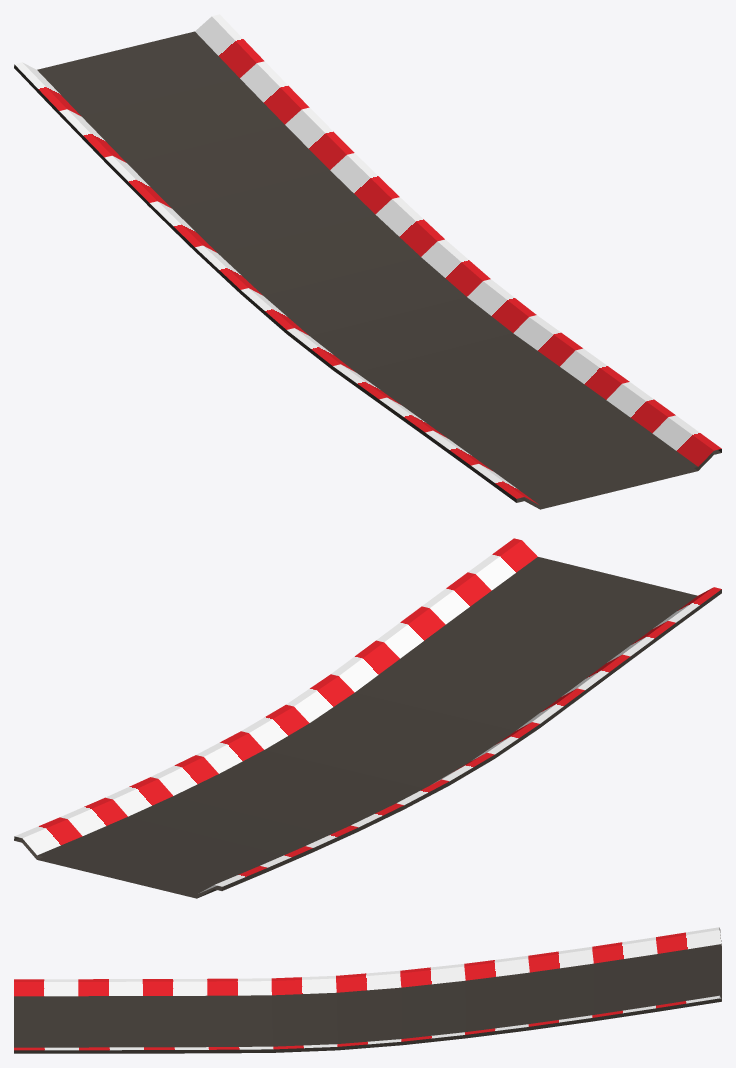
File: ramp.fbx
3 renders of one model, top to bottom at view 1: azimuth 30°, elevation 25°; view 2: azimuth 150°, elevation 25°; view 3: azimuth 270°, elevation 25°, orthographic. The views are drawn at different scales.
Parts seen in each view (by area): view 1: Road_Corner.001; view 2: Road_Corner.001; view 3: Road_Corner.001.
Boxes of the visible parts, bbox=[...] form: Road_Corner.001: bbox=[14, 14, 721, 509]; Road_Corner.001: bbox=[14, 538, 721, 898]; Road_Corner.001: bbox=[14, 927, 721, 1053].
Bounding box in the file's own units: 531 × 213 × 2190.
